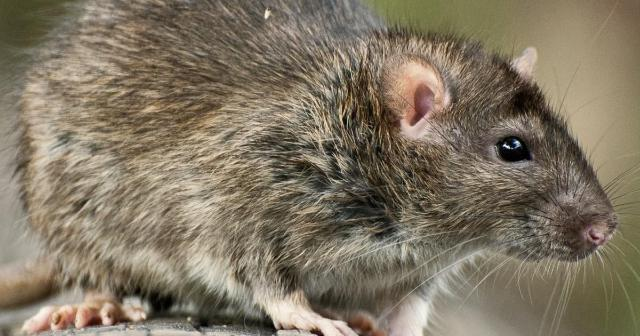rat: (8, 0, 634, 334)
